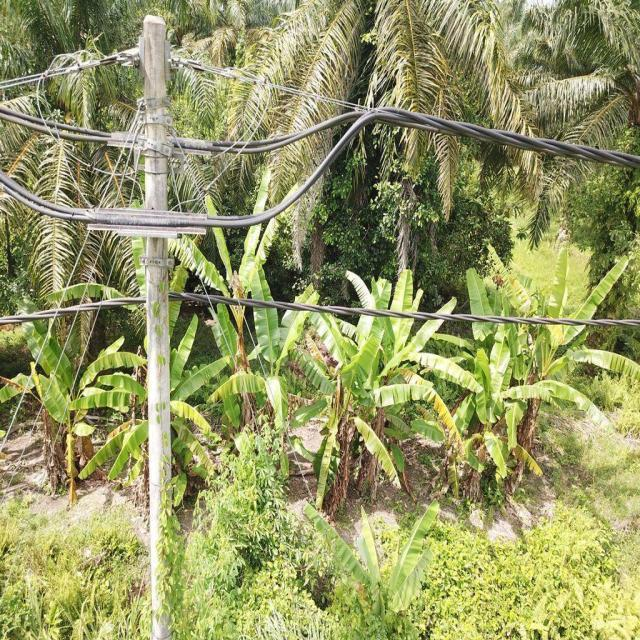critical vegetation: (137, 256, 191, 634)
